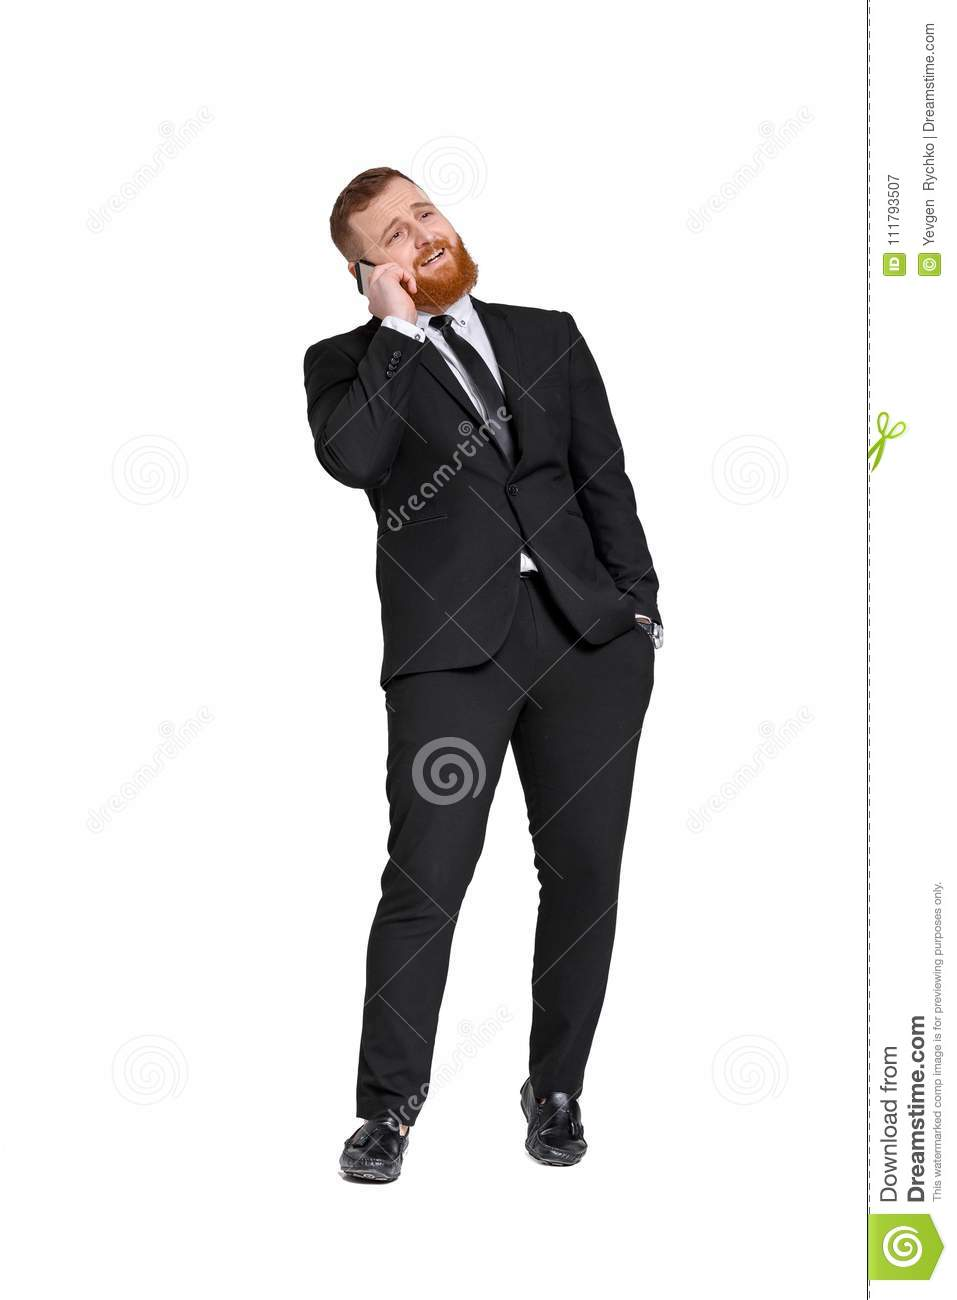phone: (355, 260, 404, 301)
talk: (352, 201, 469, 327)
